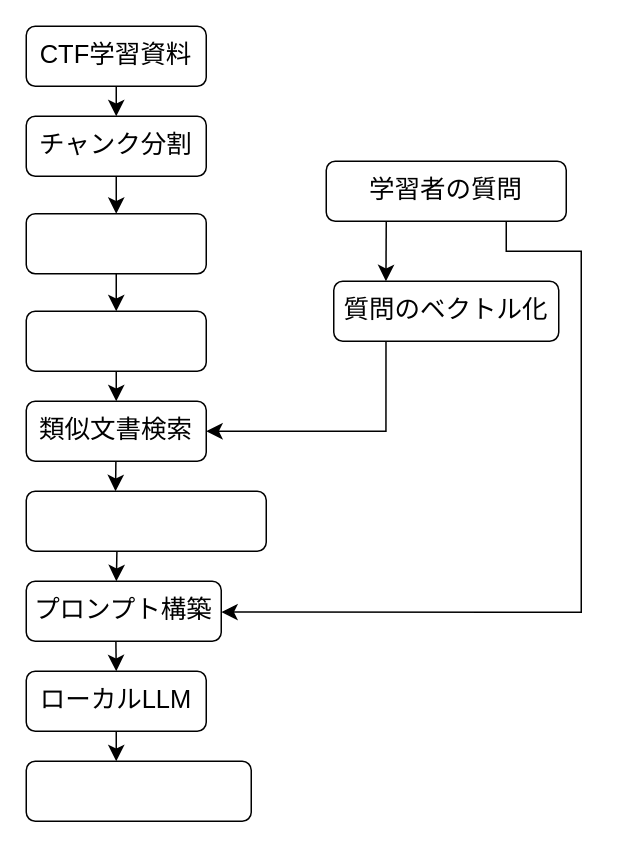
This 623x848 diagram has some shape labels left out. The shapes that lost their labels are listed below. From the top down, each one's box as (x1, y1, x2, y2) in pixels, then its label:
(25, 212, 206, 274): 埋め込みモデル
(25, 310, 206, 371): ベクトルDB
(25, 490, 266, 551): 関連チャンクの取得
(25, 760, 251, 821): 回答の生成・表示
